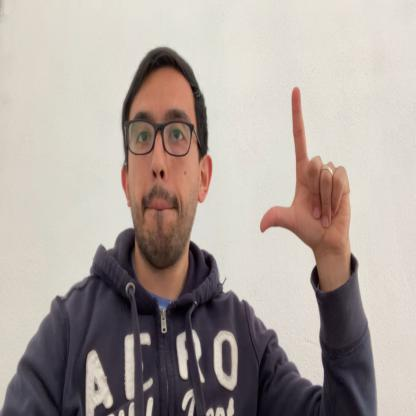L: (261, 85, 351, 258)
